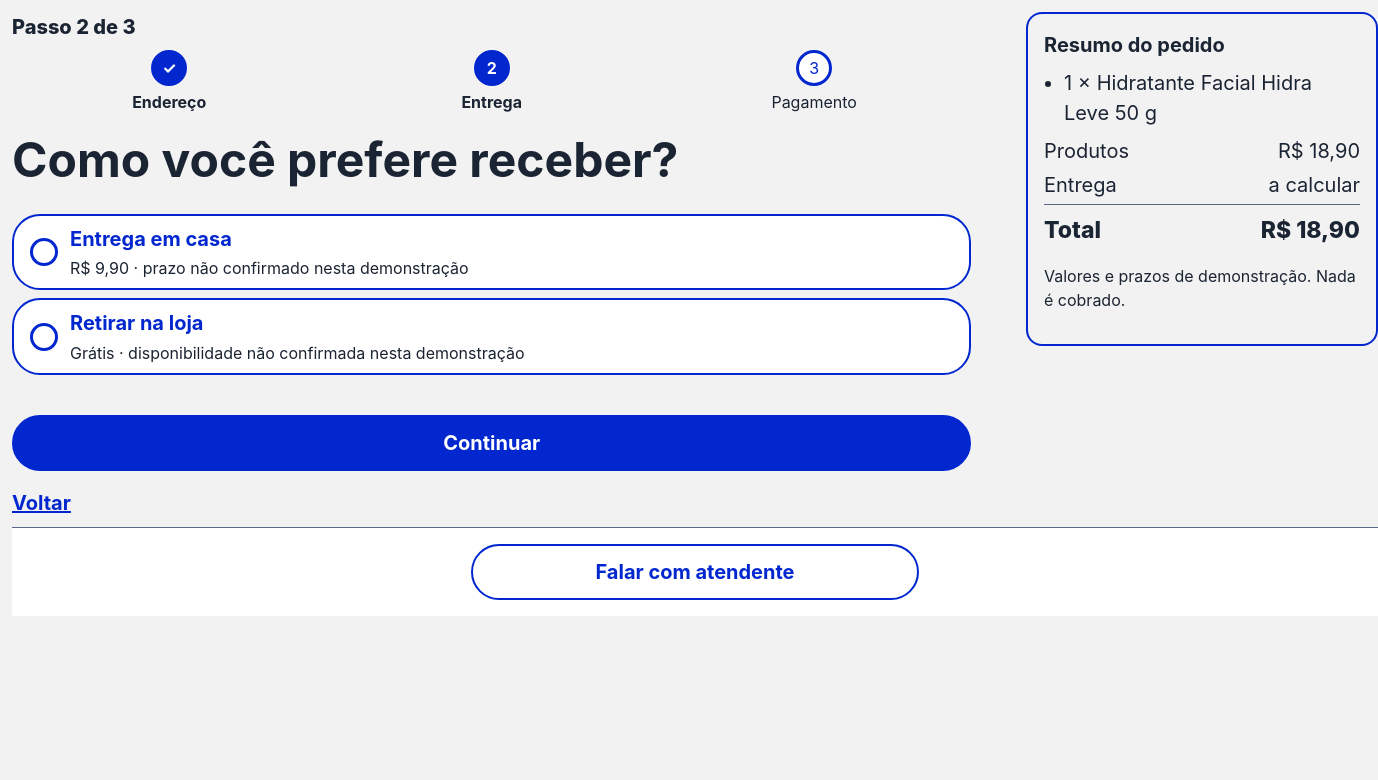
Test: Finalização › entrega: exige escolha e o frete entra no total
Click the button "Continuar".
click(492, 443)  # box [12,415,971,471]
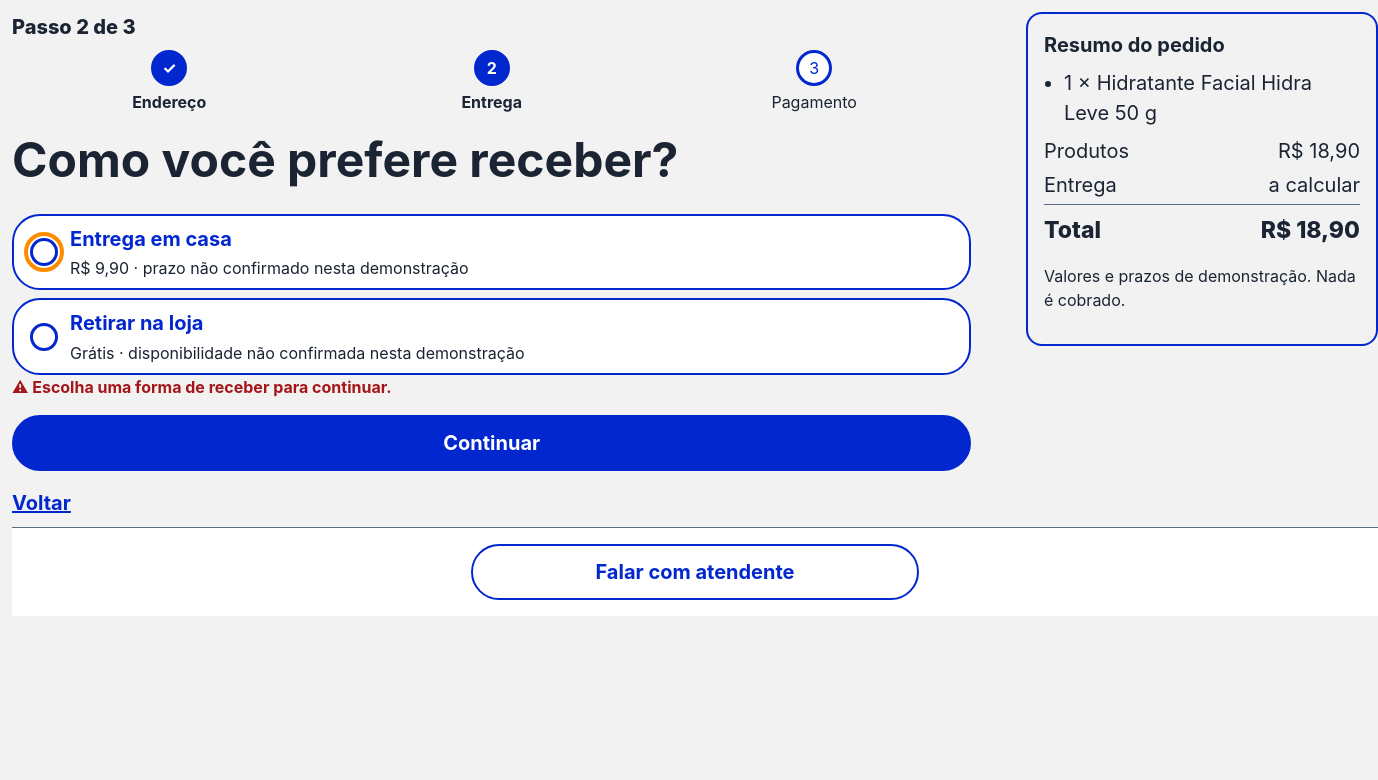
Expected: the text "⚠ Escolha uma forma de receber para continuar." is shown, [12,377,392,397]
Click the radio button labelled "Entrega em casa".
click(44, 252)  # box [30,238,58,266]
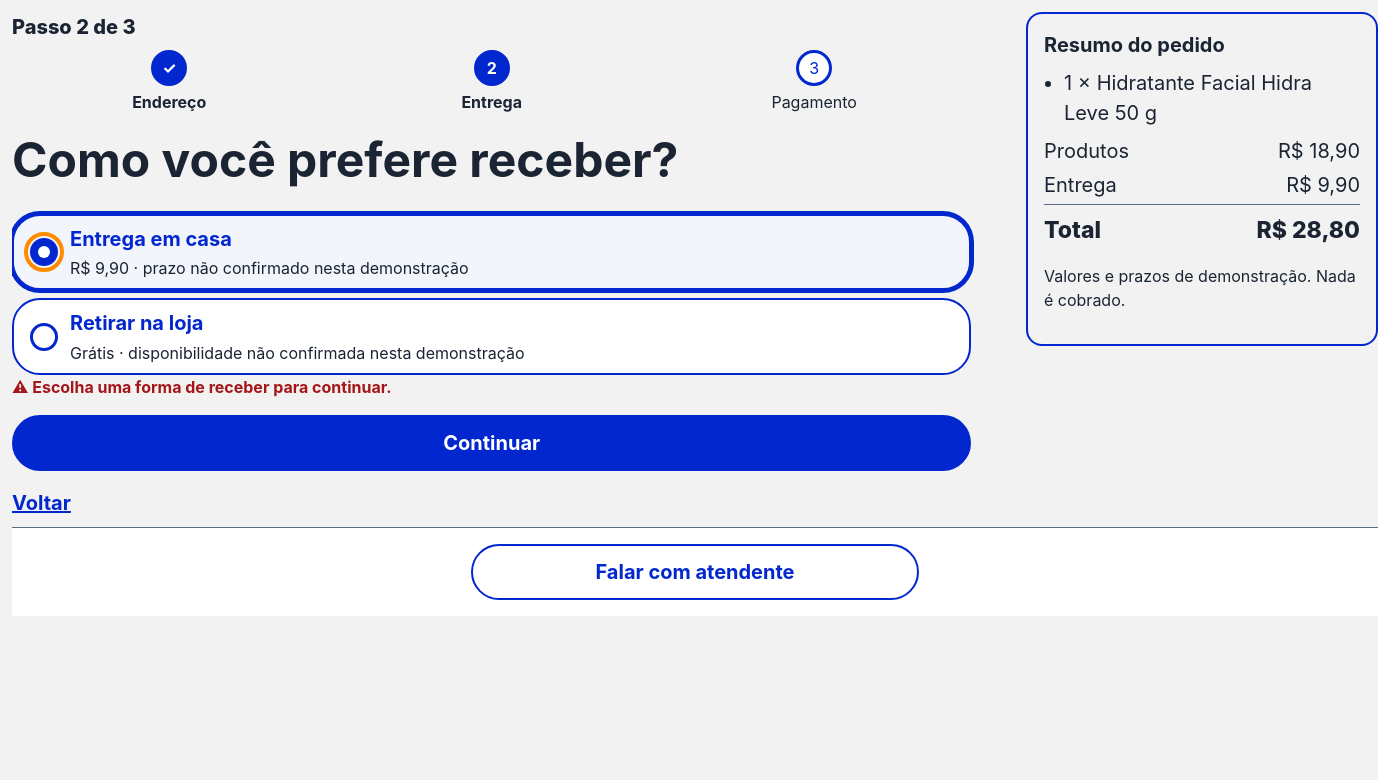
Expected: the text "R$ 9,90" is shown, [1286,170,1360,200]
Expected: the text "R$ 28,80" is shown, [1256,213,1360,248]
